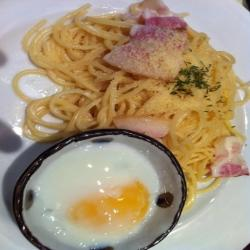carbonara: (30, 8, 243, 184)
omelette: (12, 133, 193, 250)
